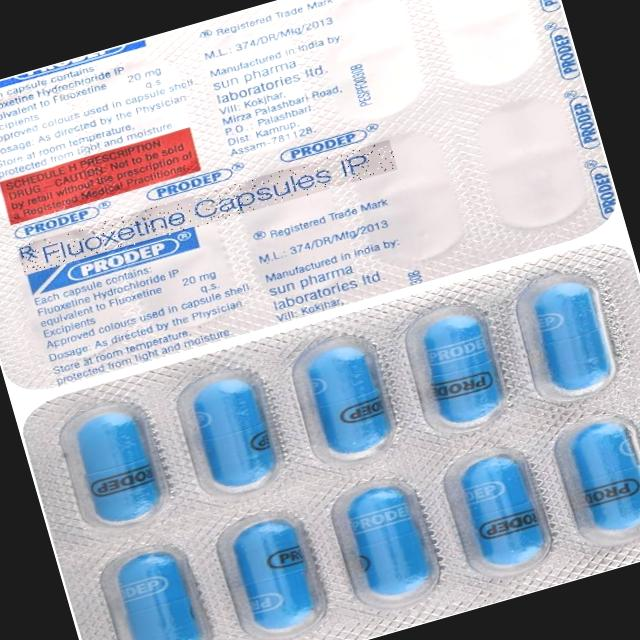Medicine-name: (17, 140, 398, 277)
